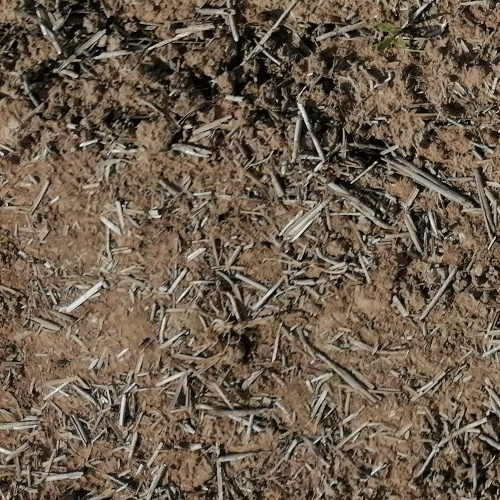beet: (376, 24, 409, 50)
